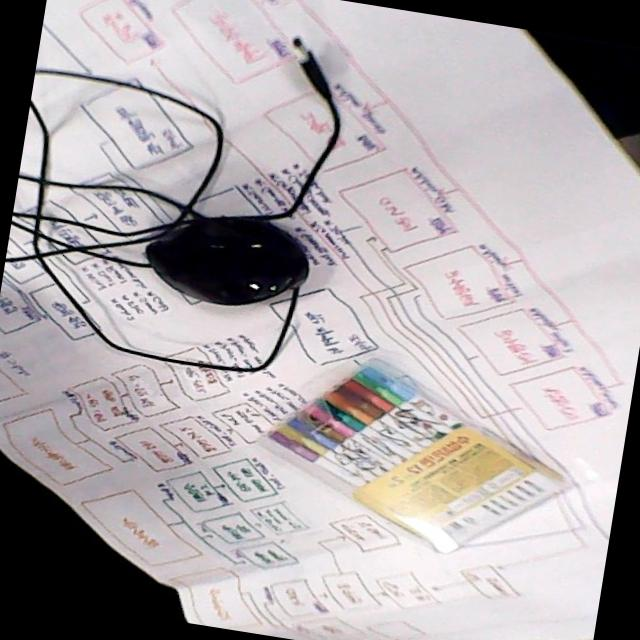mouse: (139, 209, 321, 314)
signpen: (255, 352, 585, 564)
